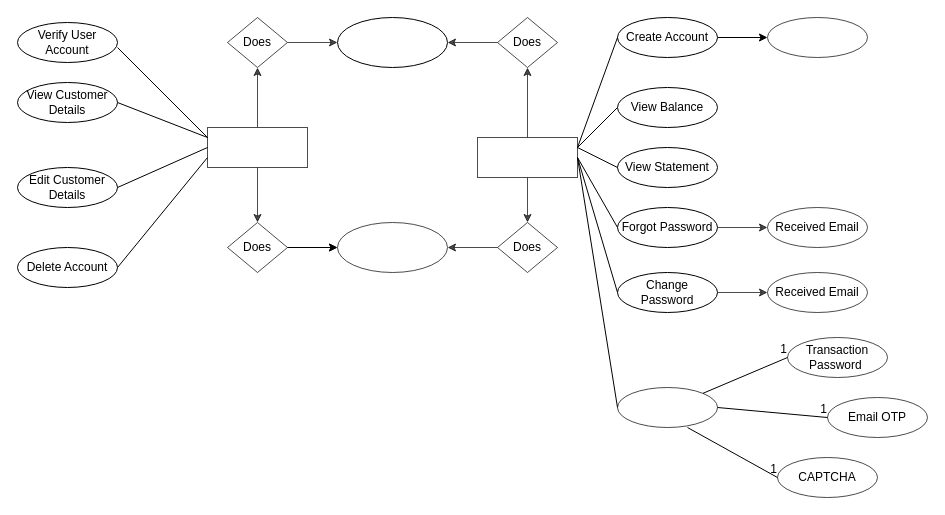
This 945x515 diagram has some shape labels left out. Here are the shapes that lost their labels. From the top down, the centre of each, then its label:
At [392,42]: "Login".
At [817,37]: "Send Email".
At [257,147]: "ADMIN".
At [527,157]: "USER".
At [392,247]: "Logout".
At [667,407]: "Fund Transfer".
